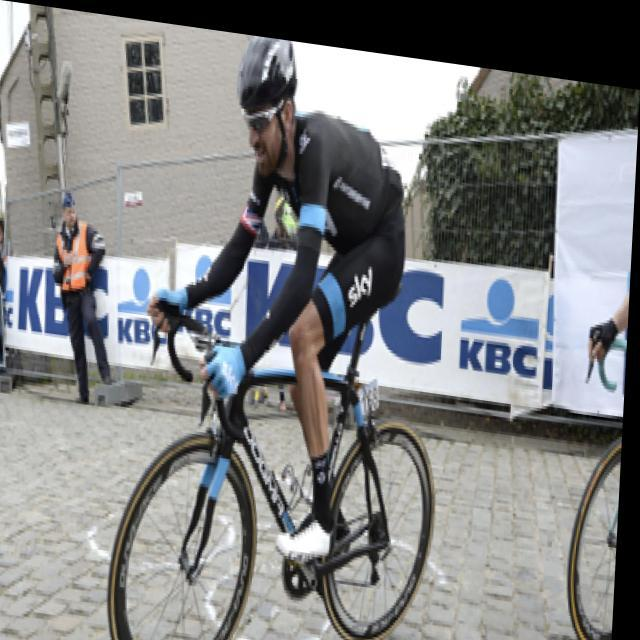Helmet: (233, 36, 305, 185)
